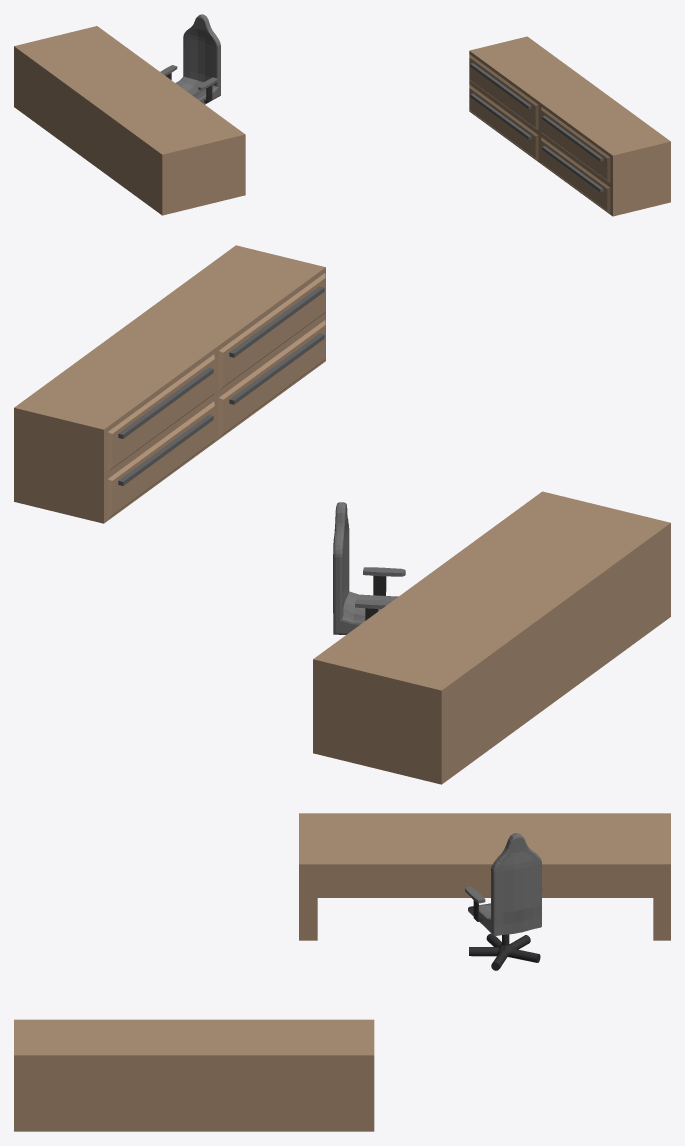
Rendered from BedroomProps.fbx.
The picture shows the model from 3 angles, top to bottom: view 1: azimuth 30°, elevation 25°; view 2: azimuth 150°, elevation 25°; view 3: azimuth 270°, elevation 25°; orthographic projection. The views are drawn at different scales.
Parts seen in each view (by area): view 1: BedroomTable, BedroomCabinet, Seat; view 2: BedroomTable, BedroomCabinet, Seat; view 3: BedroomCabinet, BedroomTable, Seat.
Boxes of the visible parts, x1=… form: BedroomTable: x1=14, y1=26, x2=245, y2=215; BedroomCabinet: x1=469, y1=36, x2=670, y2=216; Seat: x1=160, y1=14, x2=220, y2=104; BedroomTable: x1=313, y1=491, x2=670, y2=784; BedroomCabinet: x1=14, y1=245, x2=325, y2=523; Seat: x1=333, y1=502, x2=405, y2=634; BedroomCabinet: x1=14, y1=1019, x2=374, y2=1131; BedroomTable: x1=299, y1=813, x2=670, y2=940; Seat: x1=465, y1=833, x2=542, y2=970.
Size of the model in its own units: 564 by 145 by 648.
